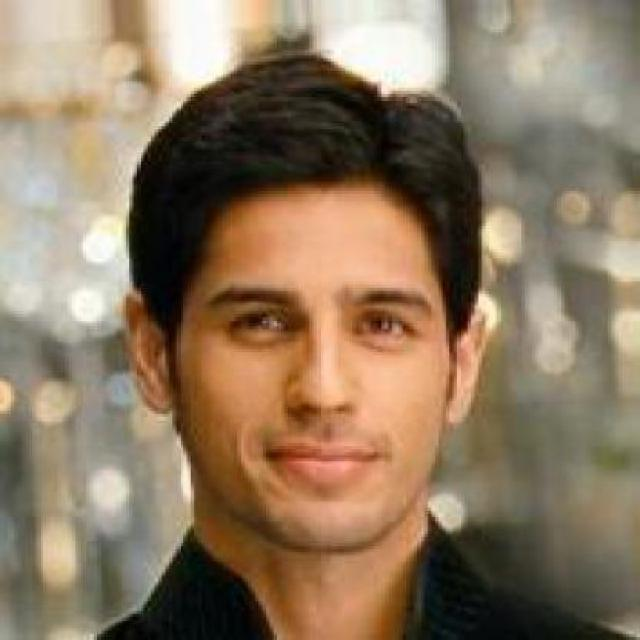closed-mouth: (257, 440, 380, 474)
